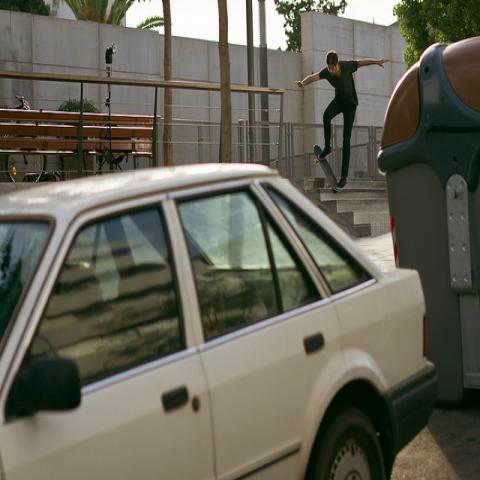car: (1, 161, 439, 474)
